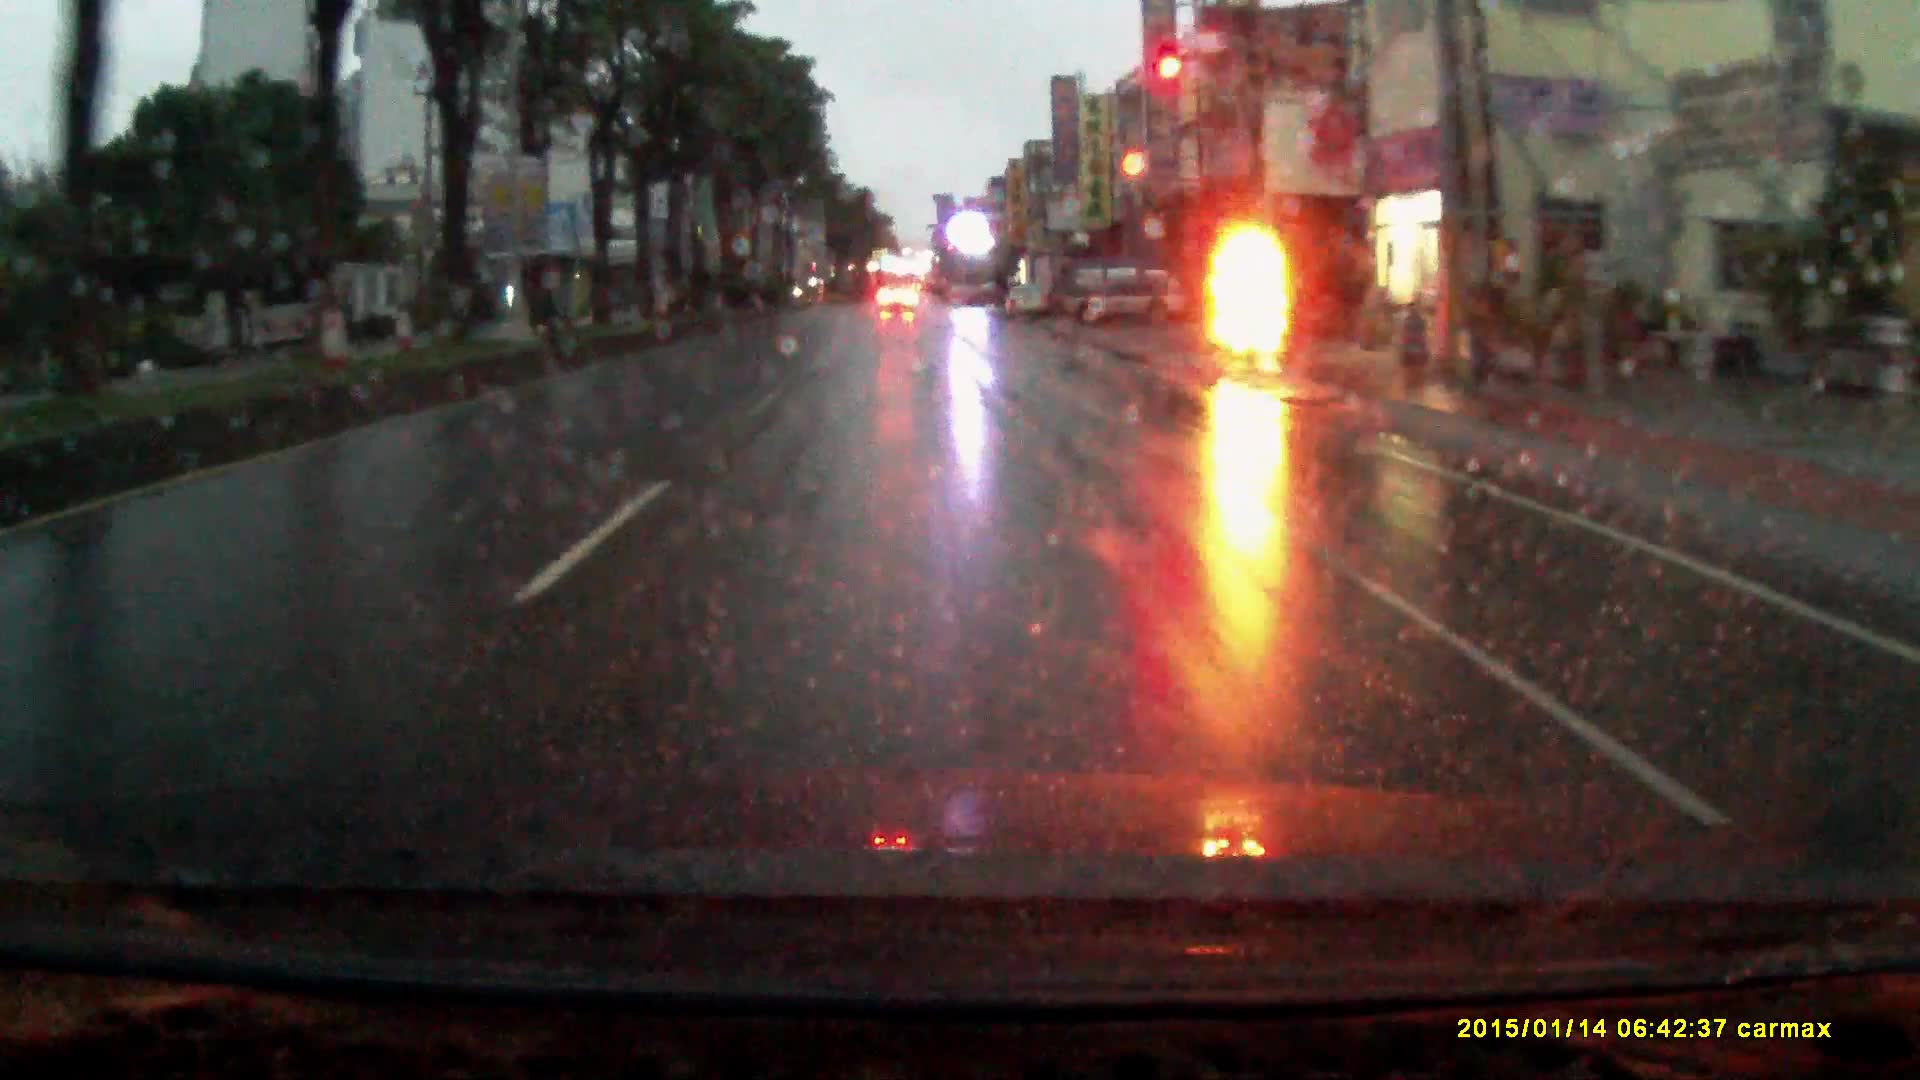vehicle: (1062, 261, 1197, 331), (1014, 249, 1077, 319), (1005, 284, 1054, 323), (878, 282, 920, 315)
